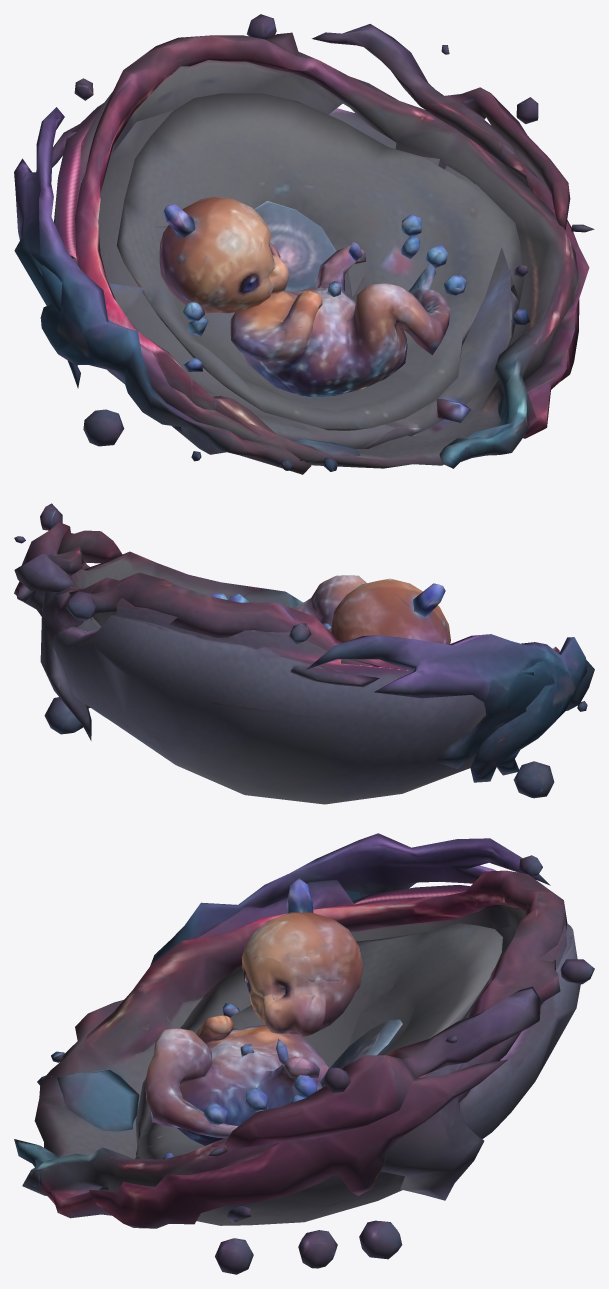
Rendered from nong_hamas.glb.
The picture shows the model from 3 angles, top to bottom: view 1: azimuth 30°, elevation 25°; view 2: azimuth 150°, elevation 25°; view 3: azimuth 270°, elevation 25°; orthographic projection. The views are drawn at different scales.
Parts seen in each view (by area): view 1: mesh_node; view 2: mesh_node; view 3: mesh_node.
Part boxes in pixels (x1,y1,x2,y2): mesh_node: (14, 14, 594, 474); mesh_node: (14, 503, 594, 804); mesh_node: (14, 833, 594, 1274).
Bounding box in the file's own units: 1 × 0.5605 × 0.9863.
1 material, 1 textured.
